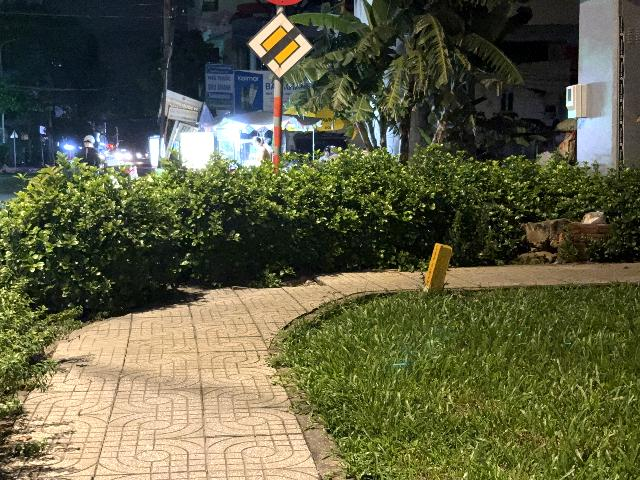het-duong-uu-tien: (246, 10, 317, 82)
